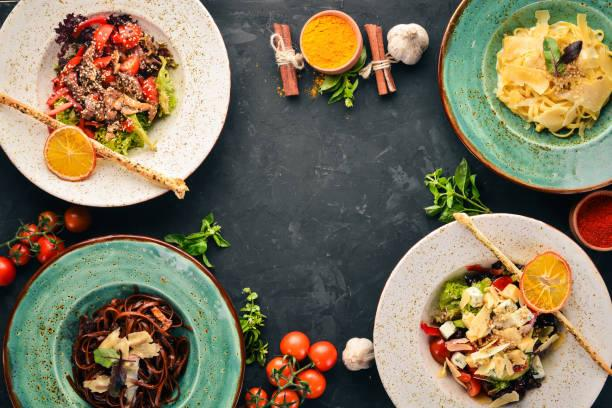Braised Crucian Carp: (2, 1, 229, 209), (378, 214, 612, 408), (2, 234, 245, 408), (436, 0, 612, 189)
